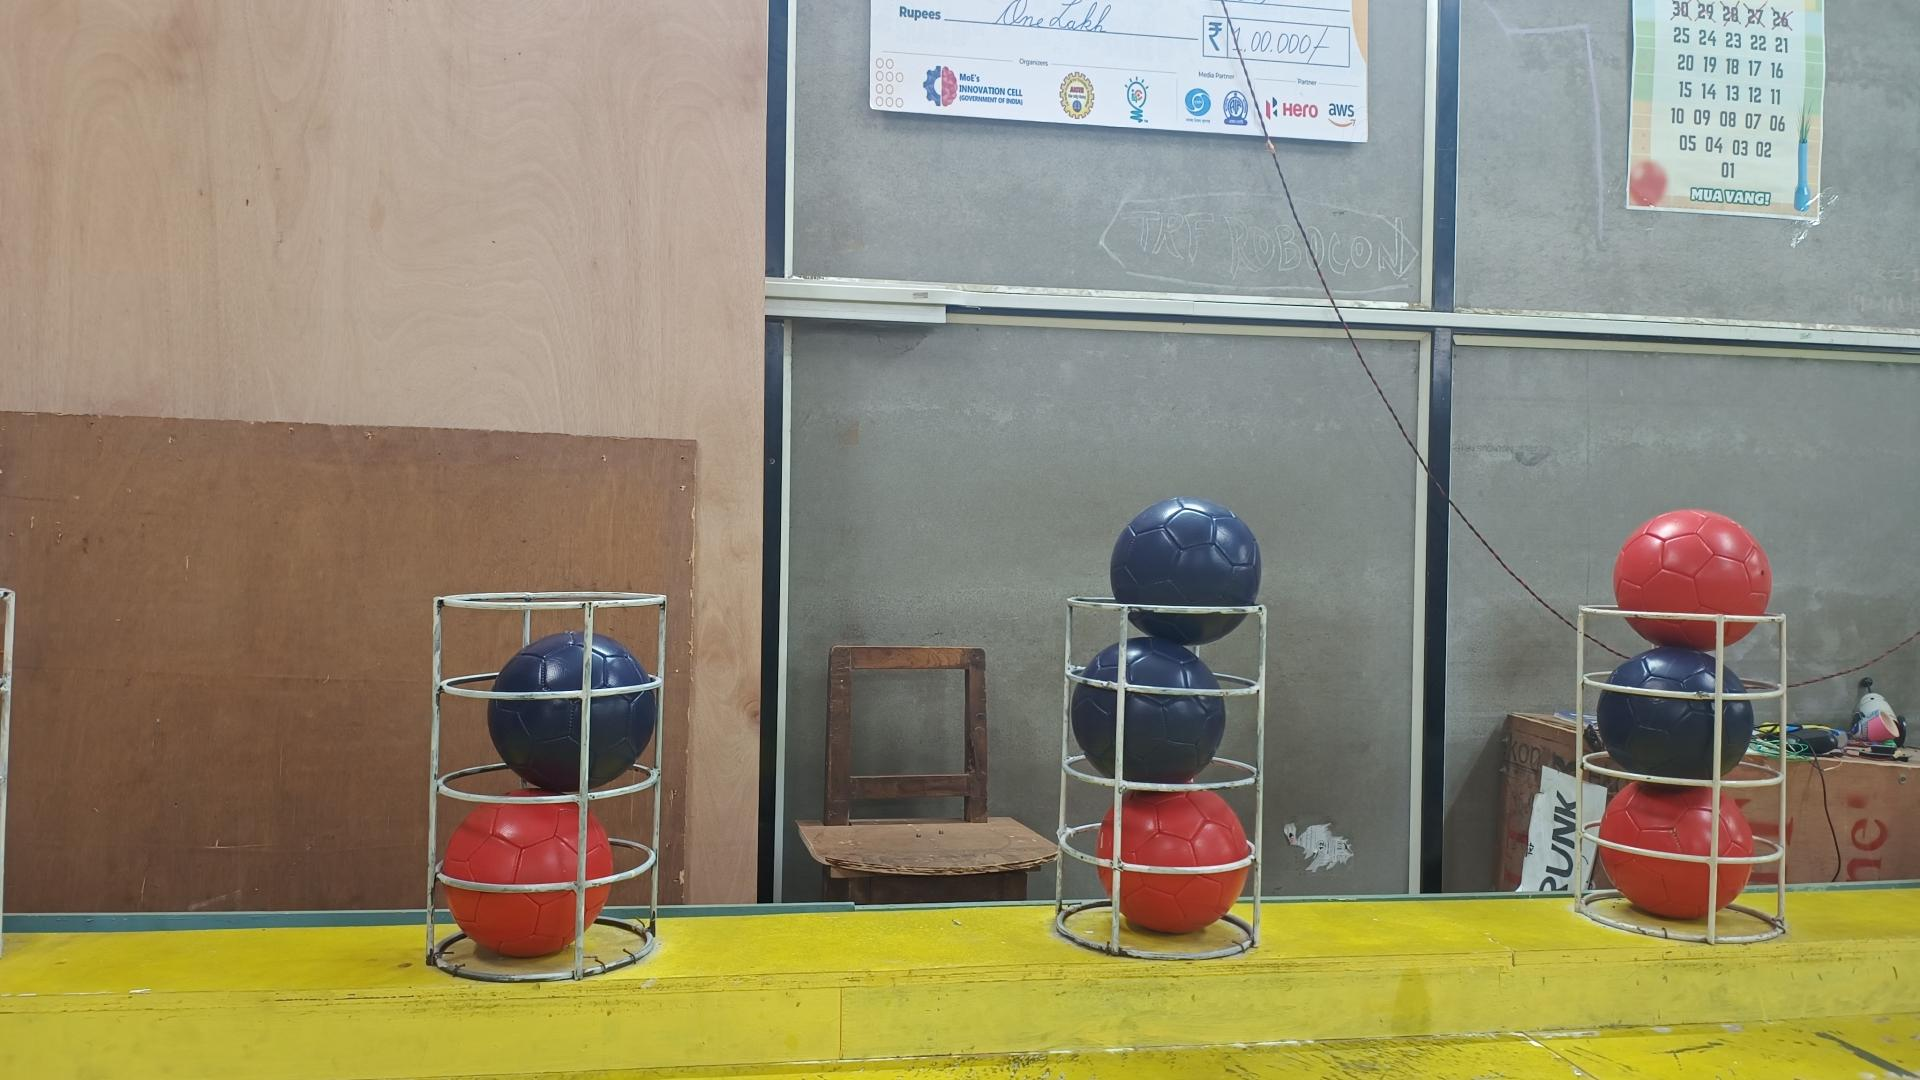dhoka: (485, 633, 654, 799), (1068, 632, 1225, 782), (1109, 496, 1263, 646), (1594, 646, 1755, 782)
laale: (442, 787, 618, 960), (1095, 787, 1251, 934), (1611, 510, 1774, 649), (1597, 778, 1754, 916)
